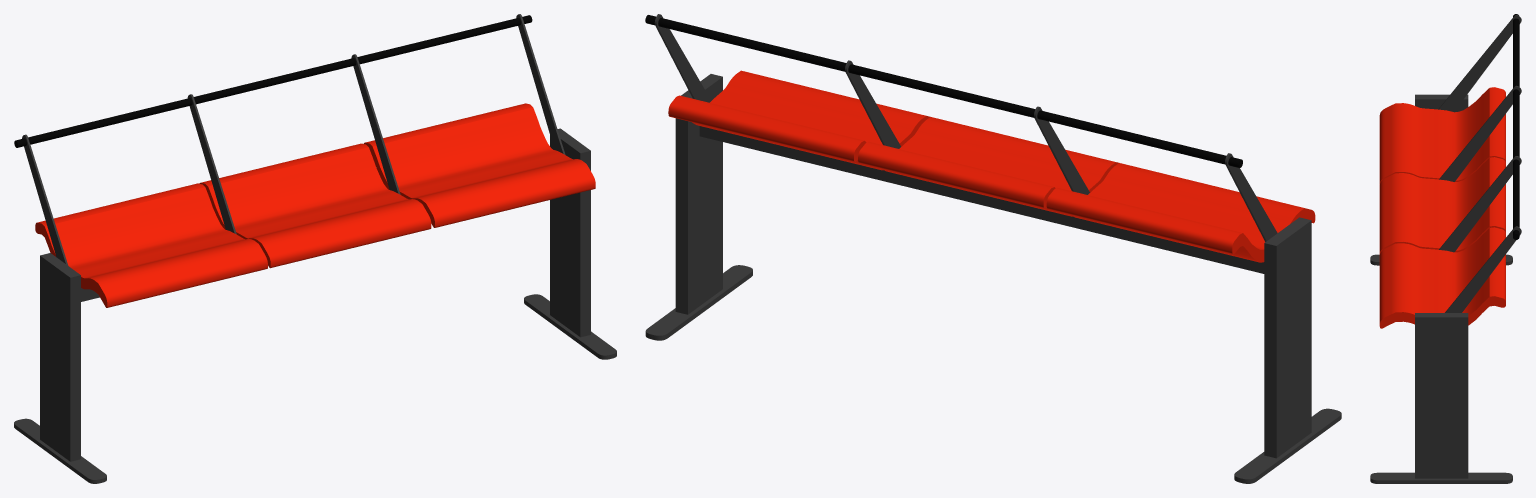
The model's file is Japan Train Station Bench.fbx.
3 renders of one model, left to right at view 1: azimuth 30°, elevation 25°; view 2: azimuth 150°, elevation 25°; view 3: azimuth 270°, elevation 25°, orthographic. The views are drawn at different scales.
Visible parts, largest first — view 1: Plane060, Plane061, Plane062, Box020, Box018, Cylinder001, Box019, Box021, Plane065, Plane066, Plane064, Plane063; view 2: Plane060, Plane061, Plane062, Box020, Box018, Box022, Cylinder001, Box019, Box021, Plane066, Plane064, Plane065 (+1 smaller); view 3: Box018, Plane061, Plane062, Plane060, Cylinder001, Plane063, Plane065, Plane064, Box019, Plane066, Box020.
Part boxes in pixels (x1=…): Plane060: x1=35, y1=183, x2=267, y2=307; Plane061: x1=363, y1=103, x2=595, y2=227; Plane062: x1=199, y1=143, x2=431, y2=268; Box020: x1=40, y1=253, x2=80, y2=461; Box018: x1=550, y1=128, x2=590, y2=337; Cylinder001: x1=14, y1=15, x2=532, y2=147; Box019: x1=524, y1=294, x2=616, y2=359; Box021: x1=14, y1=418, x2=106, y2=483; Plane065: x1=351, y1=54, x2=400, y2=194; Plane066: x1=516, y1=14, x2=565, y2=154; Plane064: x1=187, y1=94, x2=236, y2=234; Plane063: x1=22, y1=134, x2=68, y2=265; Plane060: x1=1046, y1=163, x2=1315, y2=262; Plane061: x1=668, y1=70, x2=930, y2=170; Plane062: x1=858, y1=117, x2=1118, y2=216; Box020: x1=1264, y1=217, x2=1311, y2=458; Box018: x1=675, y1=74, x2=722, y2=314; Box022: x1=699, y1=126, x2=1264, y2=273; Cylinder001: x1=645, y1=15, x2=1242, y2=167; Box019: x1=645, y1=265, x2=752, y2=340; Box021: x1=1234, y1=408, x2=1341, y2=483; Plane066: x1=654, y1=14, x2=711, y2=102; Plane064: x1=1034, y1=106, x2=1089, y2=194; Plane065: x1=845, y1=60, x2=900, y2=148; Box018: x1=1415, y1=313, x2=1468, y2=478; Plane061: x1=1379, y1=227, x2=1505, y2=328; Plane062: x1=1379, y1=157, x2=1505, y2=254; Plane060: x1=1379, y1=87, x2=1505, y2=184; Cylinder001: x1=1513, y1=14, x2=1519, y2=239; Plane063: x1=1438, y1=15, x2=1521, y2=111; Plane065: x1=1439, y1=156, x2=1521, y2=252; Plane064: x1=1439, y1=85, x2=1521, y2=181; Box019: x1=1370, y1=472, x2=1512, y2=483; Plane066: x1=1445, y1=226, x2=1521, y2=312; Box020: x1=1415, y1=94, x2=1468, y2=112.
Size of the model in its own units: 1500 by 775 by 425.
